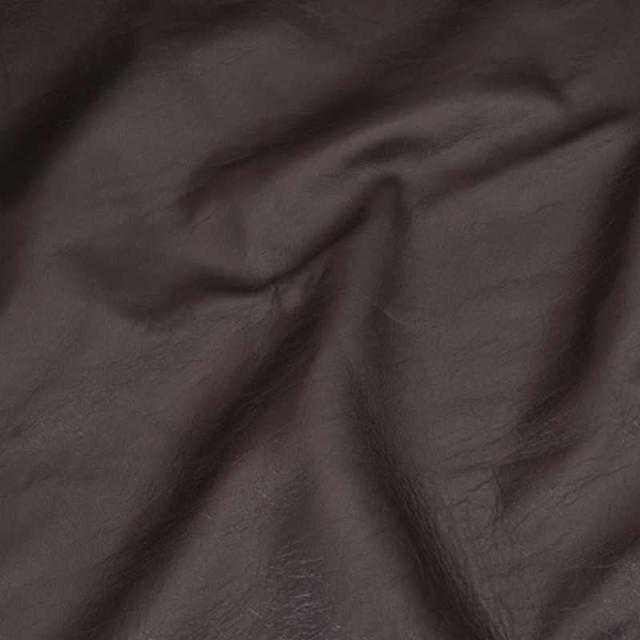Crease: (122, 138, 436, 408), (72, 434, 450, 610)
